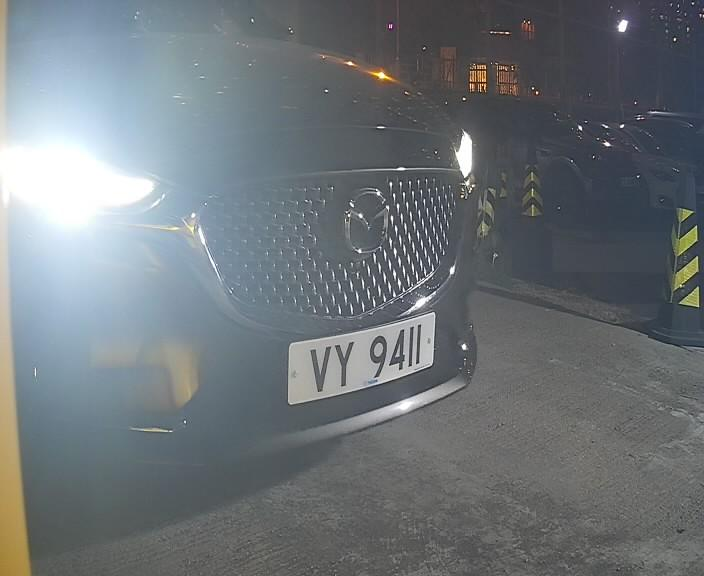License Plate: (273, 298, 445, 420)
